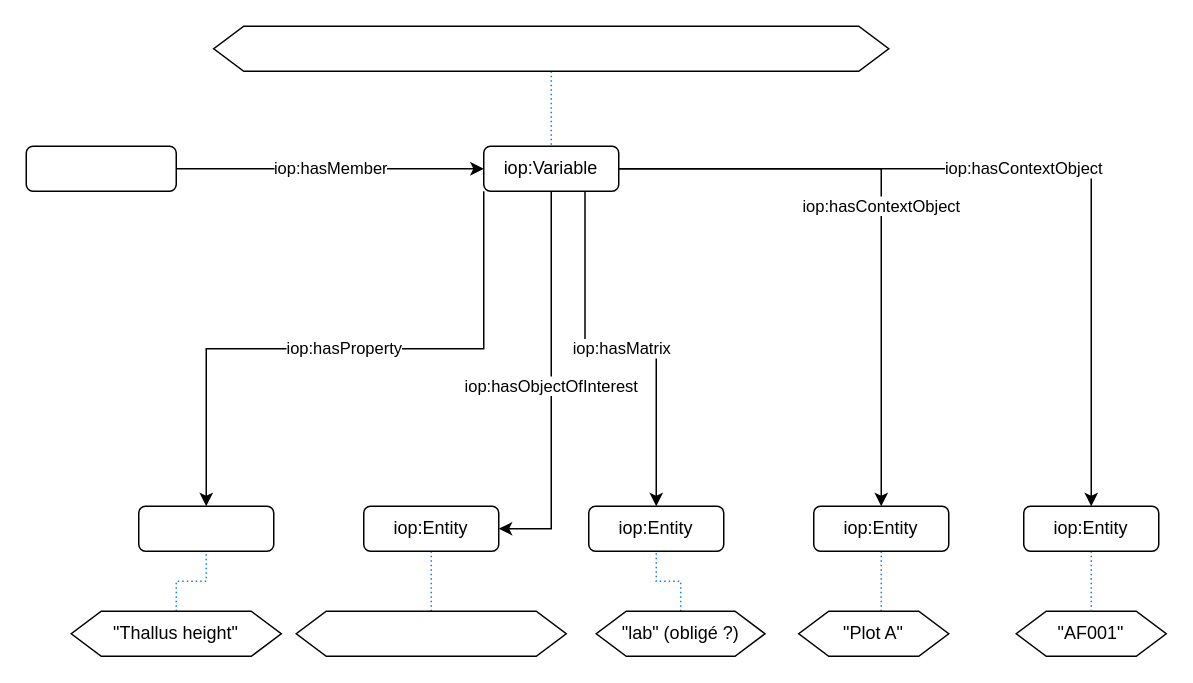
Image size: 1193x683. Some labels were removed from this diagram. Here are the shapes that lost their labels. From the top down, the box of each, then its label:
(212, 25, 889, 71): "Thallus height of lab-sampled plant P1 in AFF001-plotA
(25, 145, 176, 191): iop:VariableSet
(137, 505, 274, 551): iop:Property
(295, 610, 566, 656): (lab?) "sampled Plant P1"
